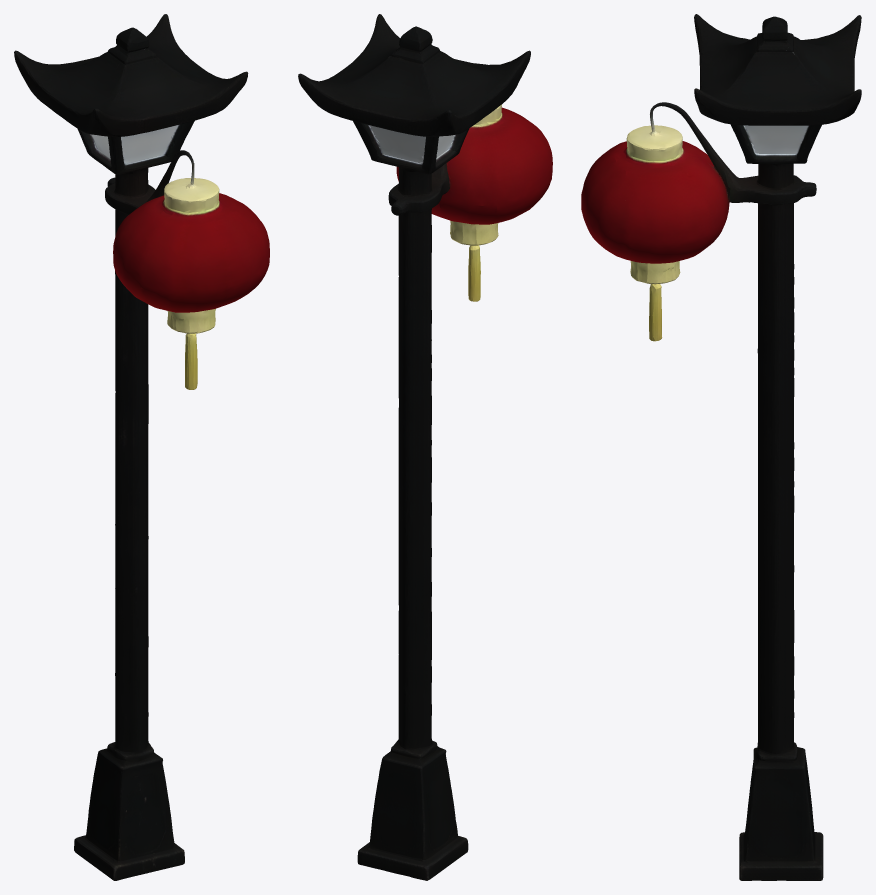
The model's file is LanternPost.fbx.
3 renders of one model, left to right at view 1: azimuth 30°, elevation 25°; view 2: azimuth 150°, elevation 25°; view 3: azimuth 270°, elevation 25°, orthographic. The views are drawn at different scales.
Visible parts, largest first — view 1: model; view 2: model; view 3: model.
Boxes of the visible parts, <box> form: model: <box>14,14,269,880</box>; model: <box>298,14,552,880</box>; model: <box>581,14,861,880</box>.
Size of the model in its own units: 36.93 by 191 by 57.31.
1 material, 1 textured.
